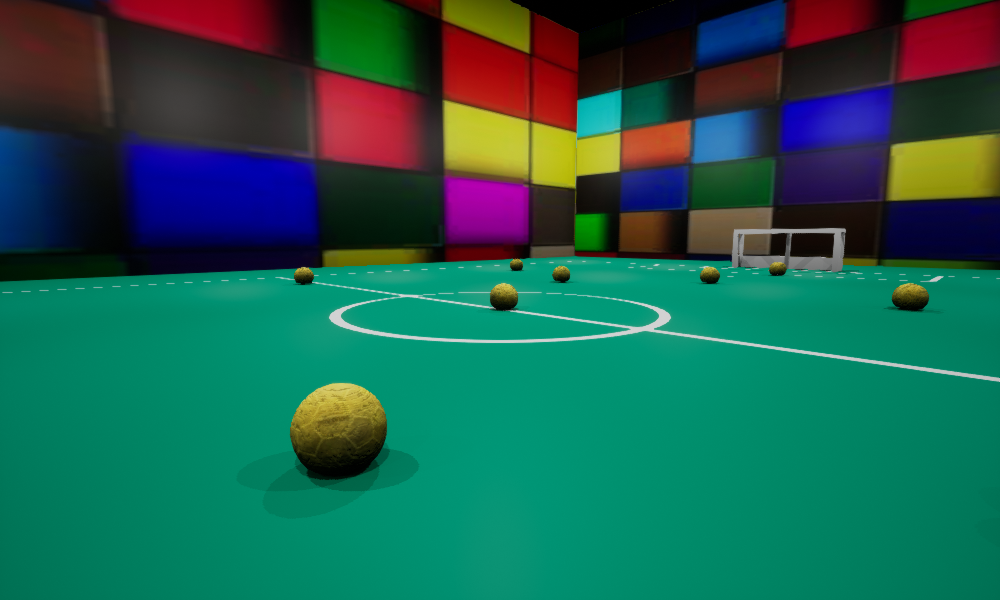b: (290, 383, 386, 475), (892, 283, 928, 309), (490, 283, 517, 309), (294, 267, 313, 283), (700, 267, 719, 283), (552, 266, 569, 281), (769, 262, 786, 275), (510, 259, 522, 270)
g: (732, 228, 845, 271)
